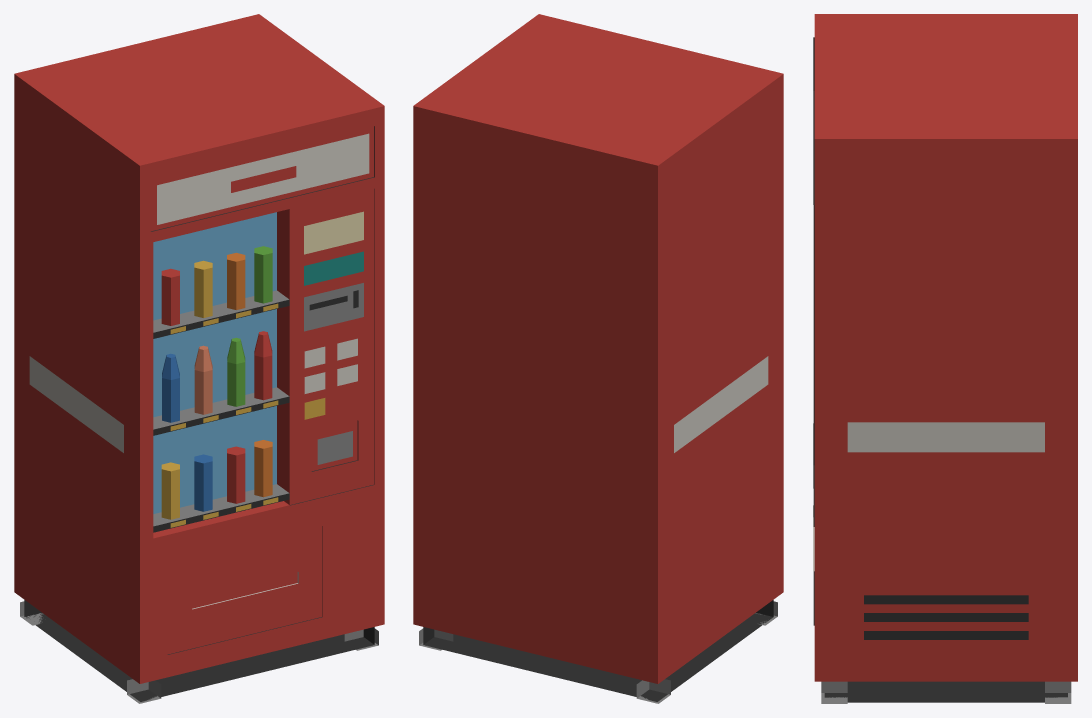
File: icecek_otomati.glb
The picture shows the model from 3 angles, left to right: view 1: azimuth 30°, elevation 25°; view 2: azimuth 150°, elevation 25°; view 3: azimuth 270°, elevation 25°; orthographic projection. The views are drawn at different scales.
Parts seen in each view (by area): view 1: icecek_otomati; view 2: icecek_otomati; view 3: icecek_otomati.
Boxes of the visible parts, x1,y1,x2,y2 form: icecek_otomati: (14,14,384,703); icecek_otomati: (413,14,783,703); icecek_otomati: (813,14,1077,703).
Size of the model in its own units: 0.902 by 1.9 by 0.808.
